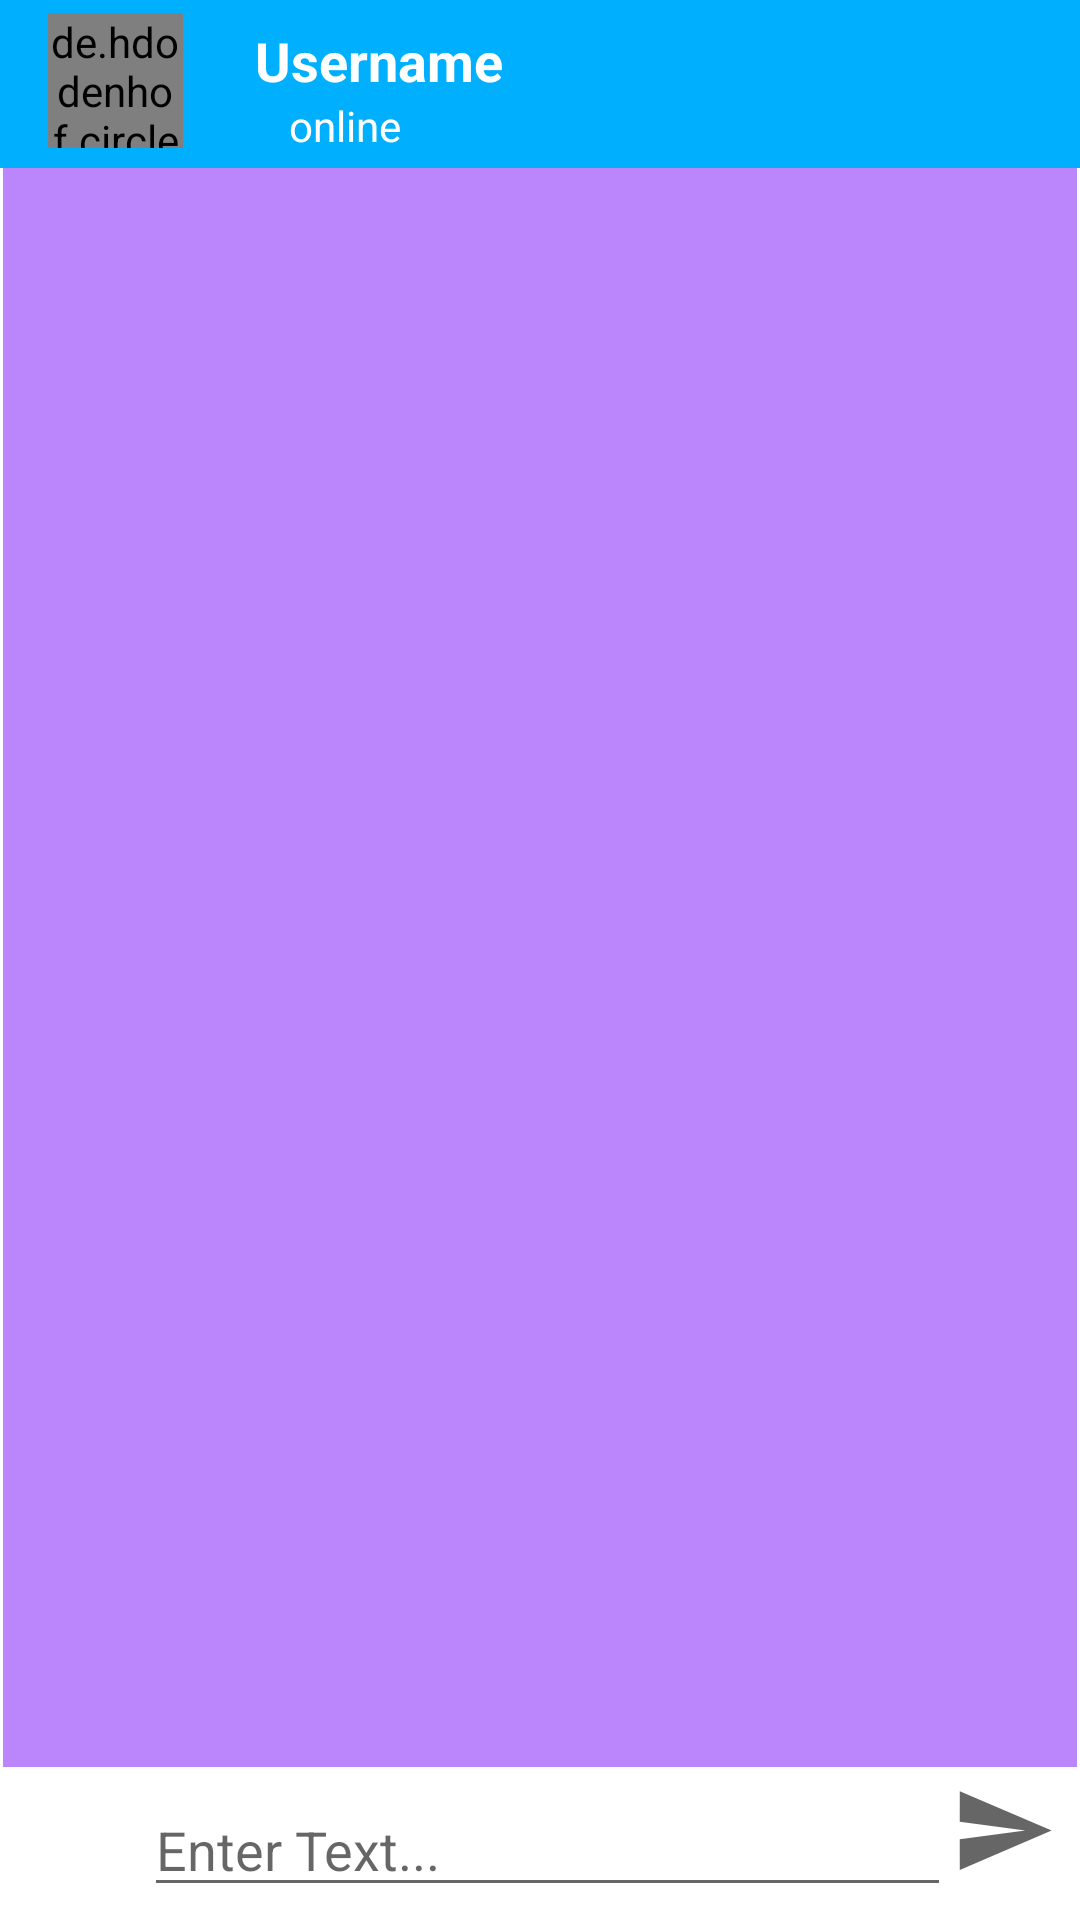

Locate icon controls on the screen. Image size 1080w x 1920h, boxes as (x1,y1,x2,y2).
send: (959,1791,1051,1870)
